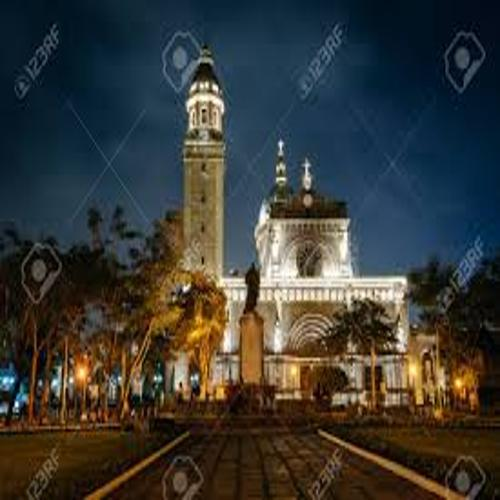Manila Cathedral Church: (104, 32, 432, 442)
